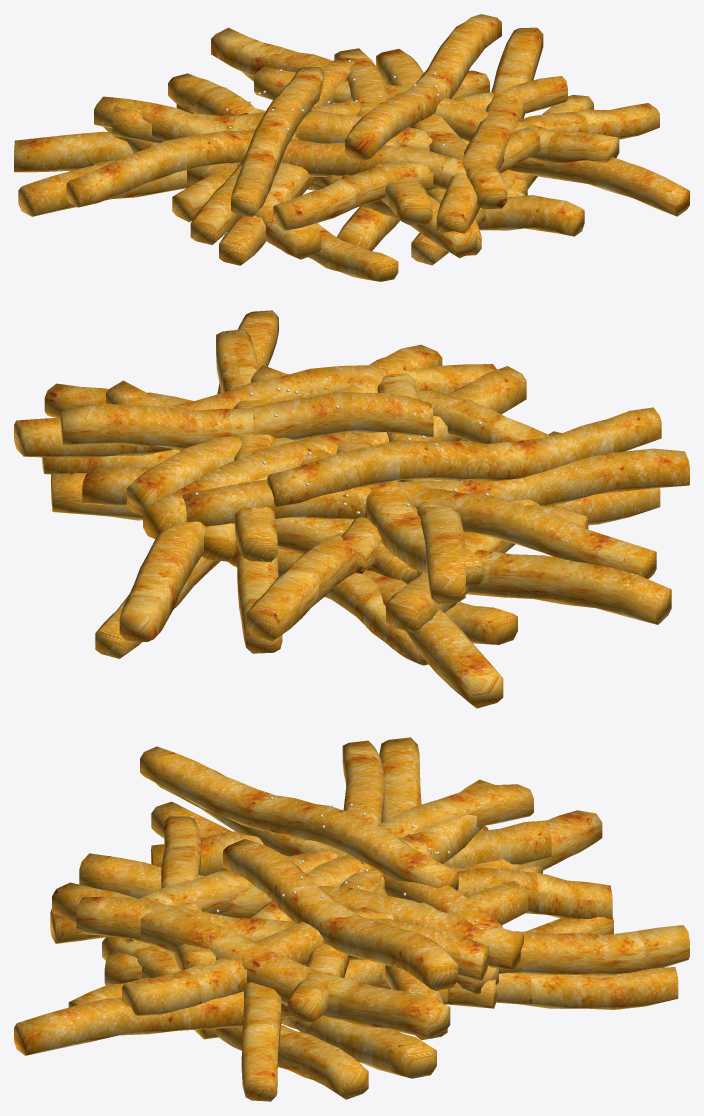
File: sides-fries.glb
3 views of the same model, one above another, from view 1: azimuth 30°, elevation 25°; view 2: azimuth 150°, elevation 25°; view 3: azimuth 270°, elevation 25° (orthographic). The views are drawn at different scales.
Visible parts, largest first — view 1: Hand cut fry 0; view 2: Hand cut fry 0; view 3: Hand cut fry 0.
Part boxes in pixels (x1,y1,x2,y2): Hand cut fry 0: (14,14,689,281); Hand cut fry 0: (14,310,689,708); Hand cut fry 0: (14,737,689,1101).
Size of the model in its own units: 2.52 by 0.4675 by 2.21.
2 materials, 1 textured.
